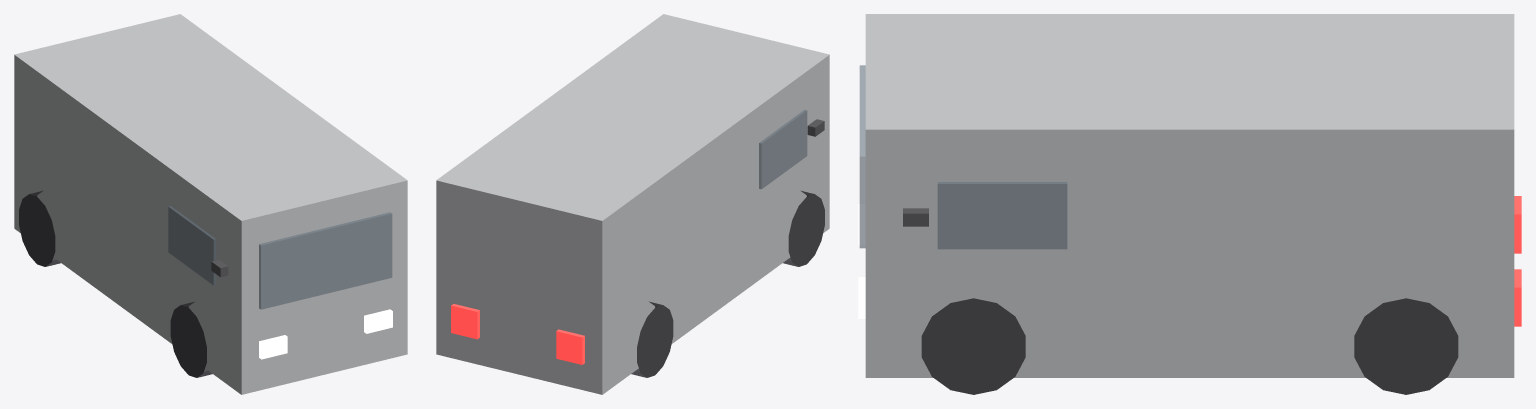
Rendered from van.glb.
3 renders of one model, left to right at view 1: azimuth 30°, elevation 25°; view 2: azimuth 150°, elevation 25°; view 3: azimuth 270°, elevation 25°, orthographic. The views are drawn at different scales.
Parts seen in each view (by area): view 1: van; view 2: van; view 3: van.
Boxes of the visible parts, bbox=[...] form: van: bbox=[14, 14, 407, 394]; van: bbox=[436, 14, 829, 394]; van: bbox=[858, 14, 1521, 394].
Size of the model in its own units: 2.24 by 1.95 by 4.6.
